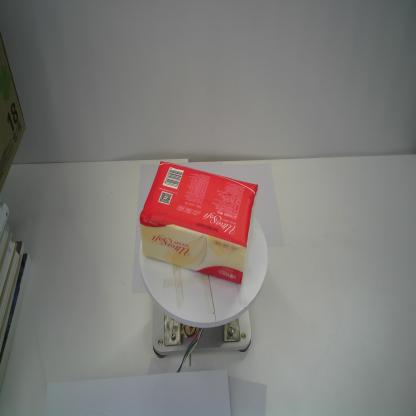Tissue: (139, 161, 259, 290)
